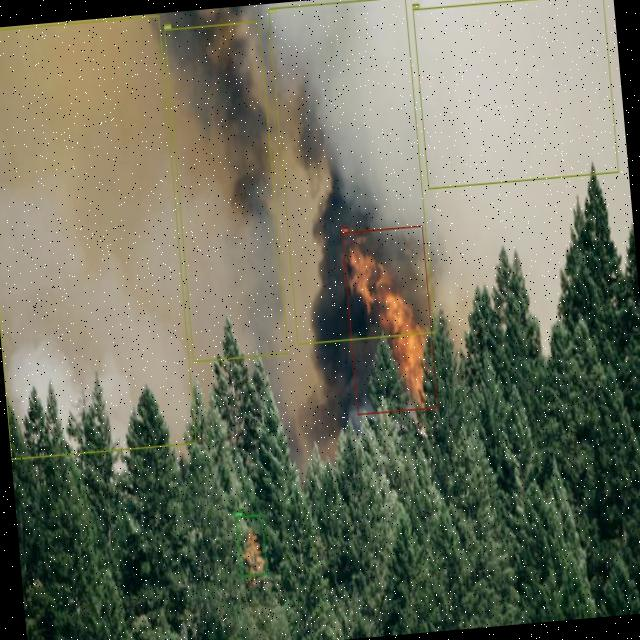fire: (341, 225, 438, 414)
smoke: (0, 14, 196, 459), (267, 0, 434, 344), (164, 20, 288, 362), (411, 0, 618, 188)
